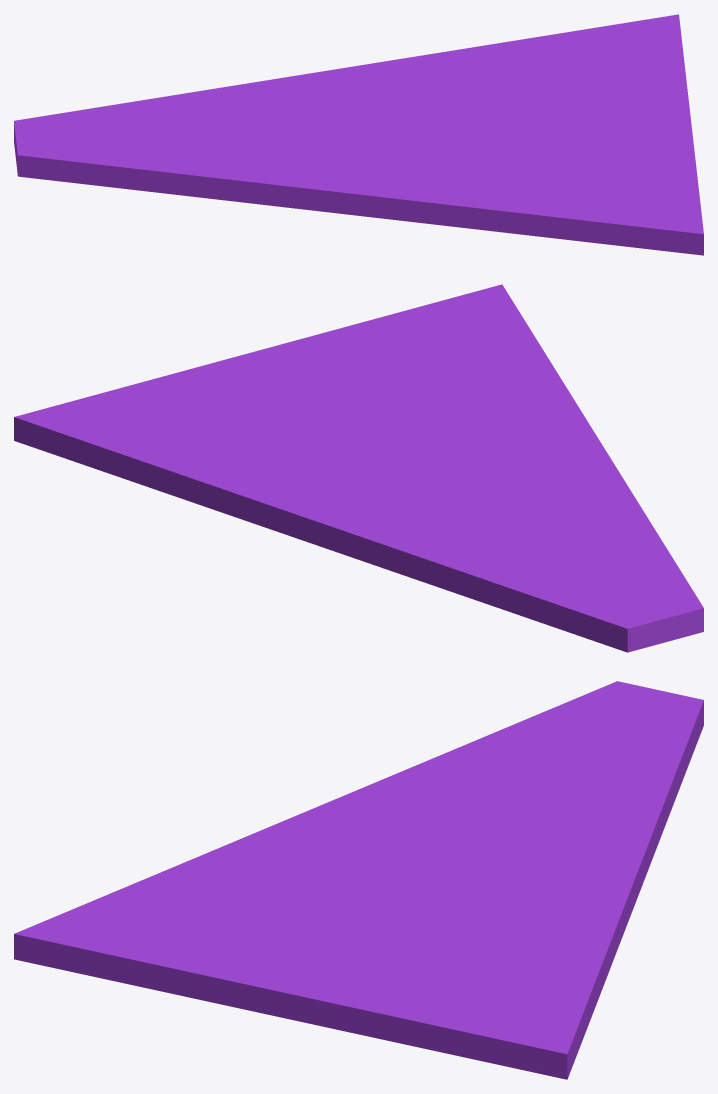
The model's file is StairsStep_46_chunks.fbx.
3 views of the same model, one above another, from view 1: azimuth 30°, elevation 25°; view 2: azimuth 150°, elevation 25°; view 3: azimuth 270°, elevation 25° (orthographic). The views are drawn at different scales.
Parts seen in each view (by area): view 1: StairsStep_46_1, StairsStep_46_2, StairsStep_46_0, StairsStep_46_3; view 2: StairsStep_46_1, StairsStep_46_0, StairsStep_46_3, StairsStep_46_2; view 3: StairsStep_46_1, StairsStep_46_3, StairsStep_46_0, StairsStep_46_2.
Boxes of the visible parts, x1,y1,x2,y2 form: StairsStep_46_1: (381,42,703,255); StairsStep_46_2: (202,131,689,247); StairsStep_46_0: (14,76,342,199); StairsStep_46_3: (293,14,681,133); StairsStep_46_1: (77,284,505,471); StairsStep_46_0: (352,489,703,652); StairsStep_46_3: (14,400,468,557); StairsStep_46_2: (453,291,649,521); StairsStep_46_1: (14,852,550,1076); StairsStep_46_3: (452,837,646,1079); StairsStep_46_0: (456,681,703,883); StairsStep_46_2: (27,749,481,928).
Size of the model in its own units: 563 by 17.94 by 440.
